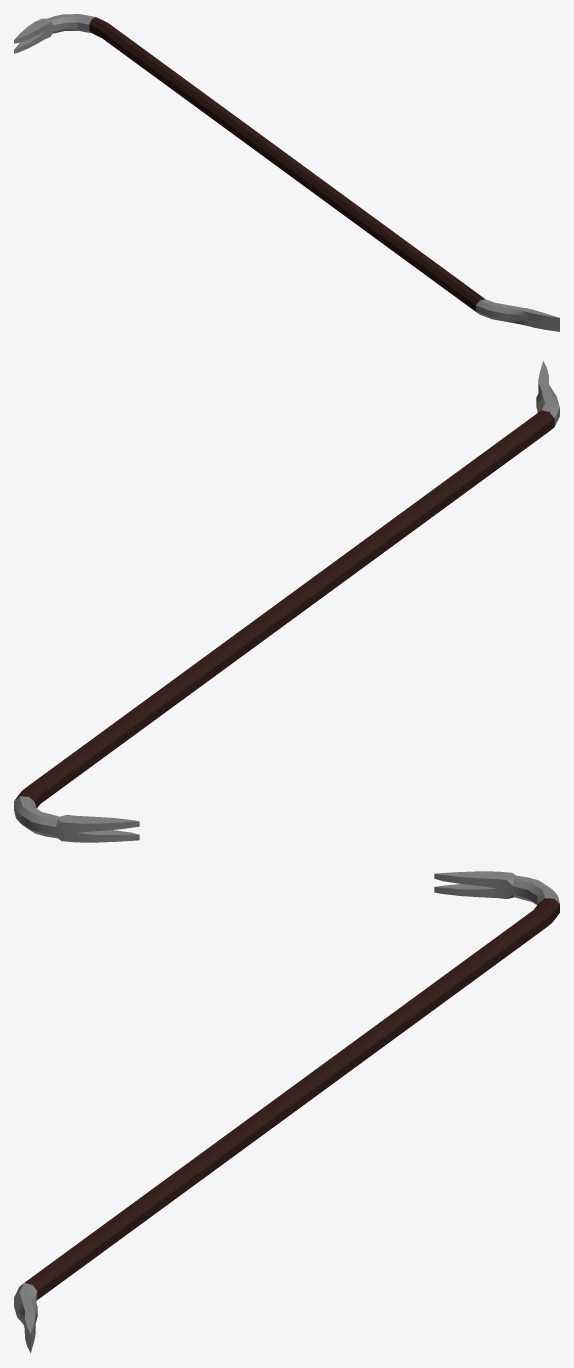
Rendered from CROWBAR.fbx.
3 renders of one model, top to bottom at view 1: azimuth 30°, elevation 25°; view 2: azimuth 150°, elevation 25°; view 3: azimuth 330°, elevation 25°, orthographic. The views are drawn at different scales.
Parts seen in each view (by area): view 1: crowbar, crowbar.001; view 2: crowbar, crowbar.001; view 3: crowbar, crowbar.001.
Boxes of the visible parts, left/top/right/bottom form: crowbar: left=89, top=17, right=484, bottom=312; crowbar.001: left=14, top=14, right=559, bottom=331; crowbar: left=14, top=410, right=554, bottom=808; crowbar.001: left=14, top=361, right=559, bottom=842; crowbar: left=24, top=898, right=559, bottom=1299; crowbar.001: left=14, top=871, right=559, bottom=1352.
Size of the model in its own units: 9.1 by 0.9711 by 55.3.
